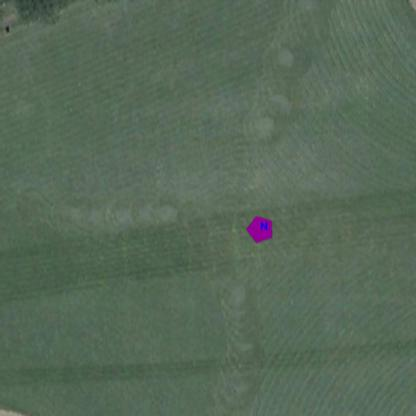N: (259, 218, 270, 232)
pentagon: (246, 212, 276, 244)
